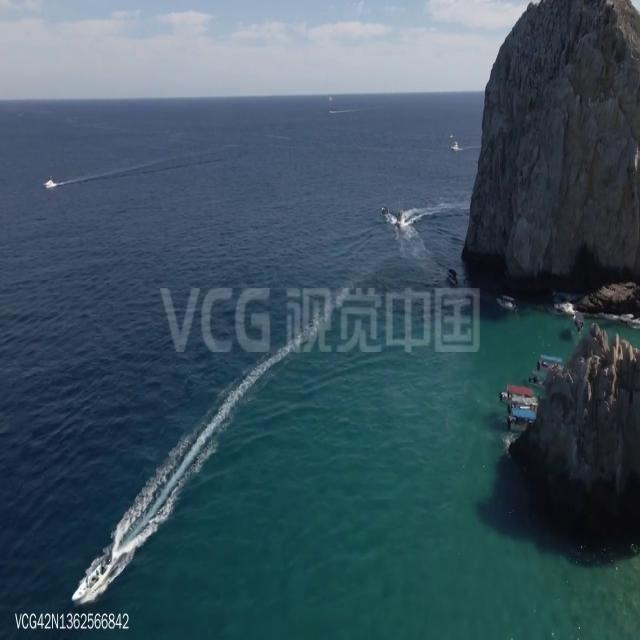houseboat: (73, 552, 118, 604), (534, 349, 565, 376), (507, 405, 539, 431), (498, 386, 536, 406), (496, 292, 516, 314), (448, 260, 460, 284), (379, 196, 389, 221), (397, 205, 407, 230), (42, 176, 56, 190), (452, 142, 462, 153)
